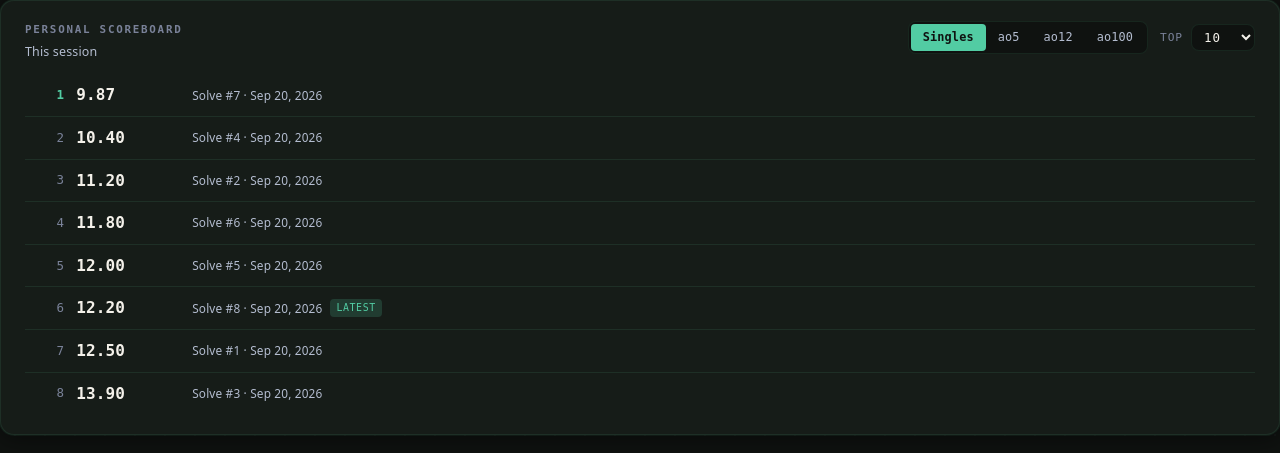
Test: the personal scoreboard › says how many more solves an average needs
Click the radio button labelled "ao12" at (1058, 37), box [1032,24,1085,51]
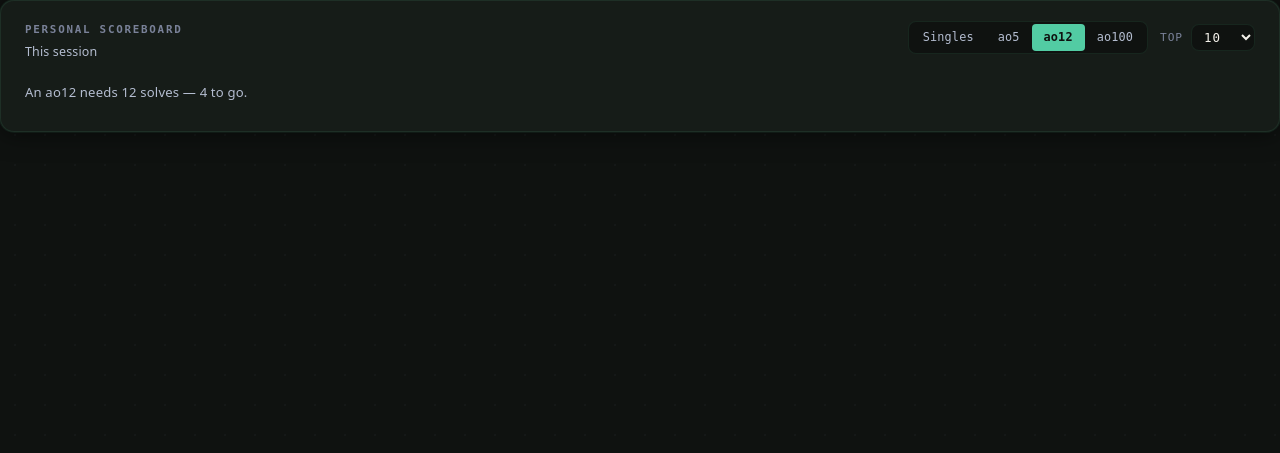
expect the text "An ao12 needs 12 solves — 4 to go." is shown: met, box [25,83,247,101]
